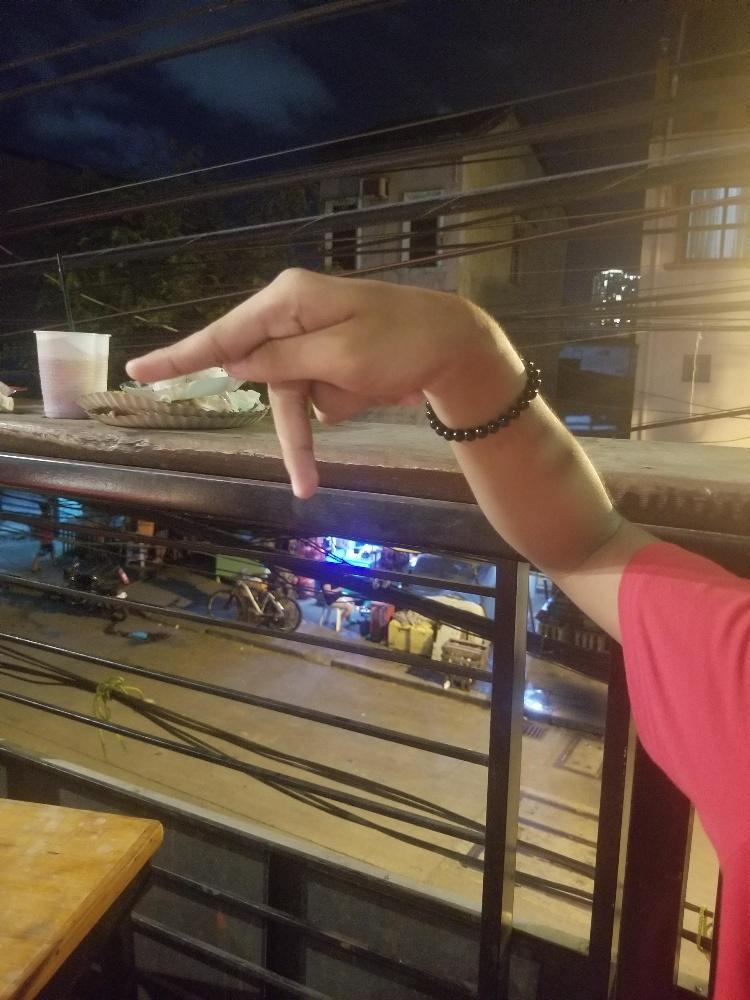p: (124, 264, 461, 498)
